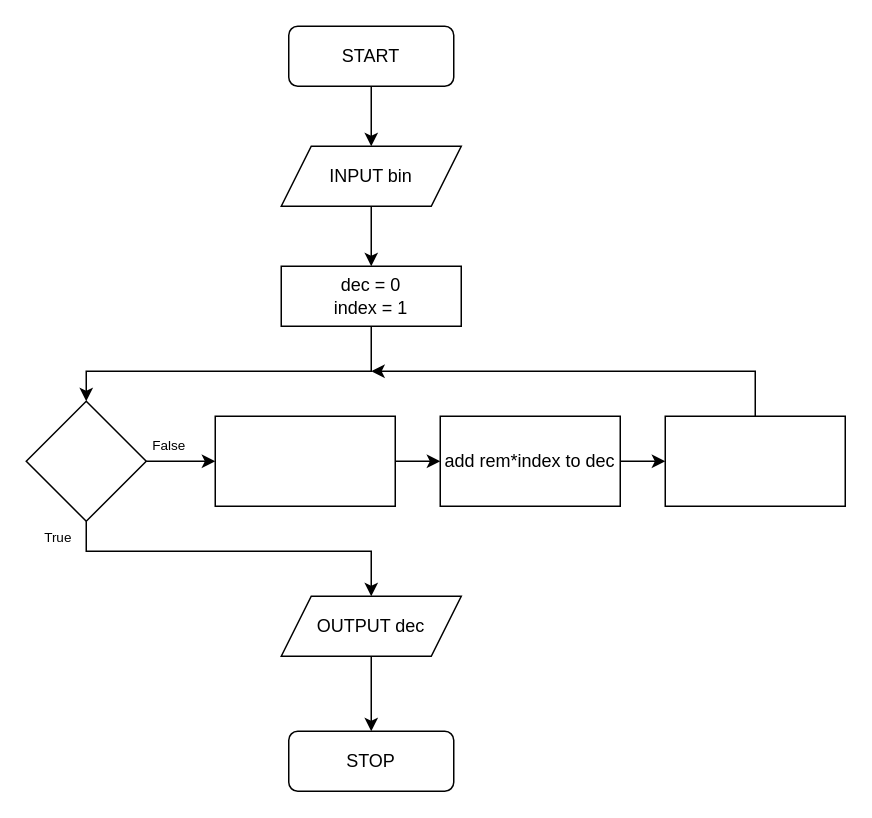
Some shapes in this 872 by 818 pixel diagram are drawn without their labels. The centre of each missing label's shape, as x and y in pixels:
"double the index divide bin by 10" goes at (754,460).
"is bin 0?" goes at (85,460).
"rem = mod(bin,10)" goes at (304,460).
